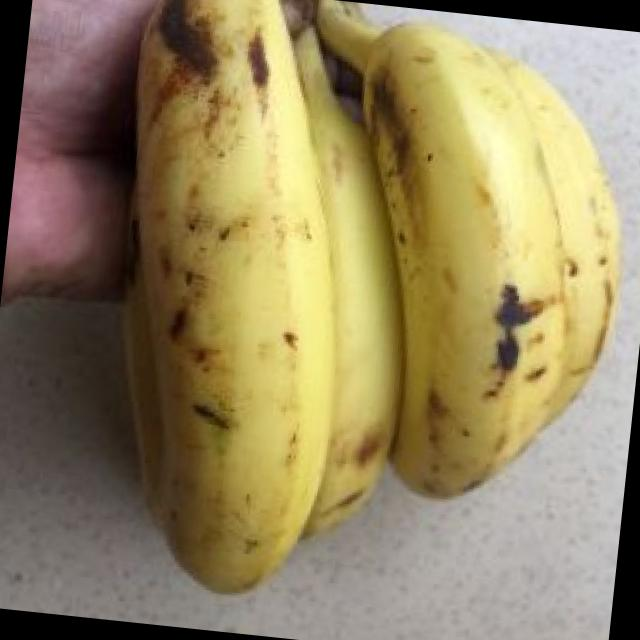banana: (0, 145, 560, 591)
